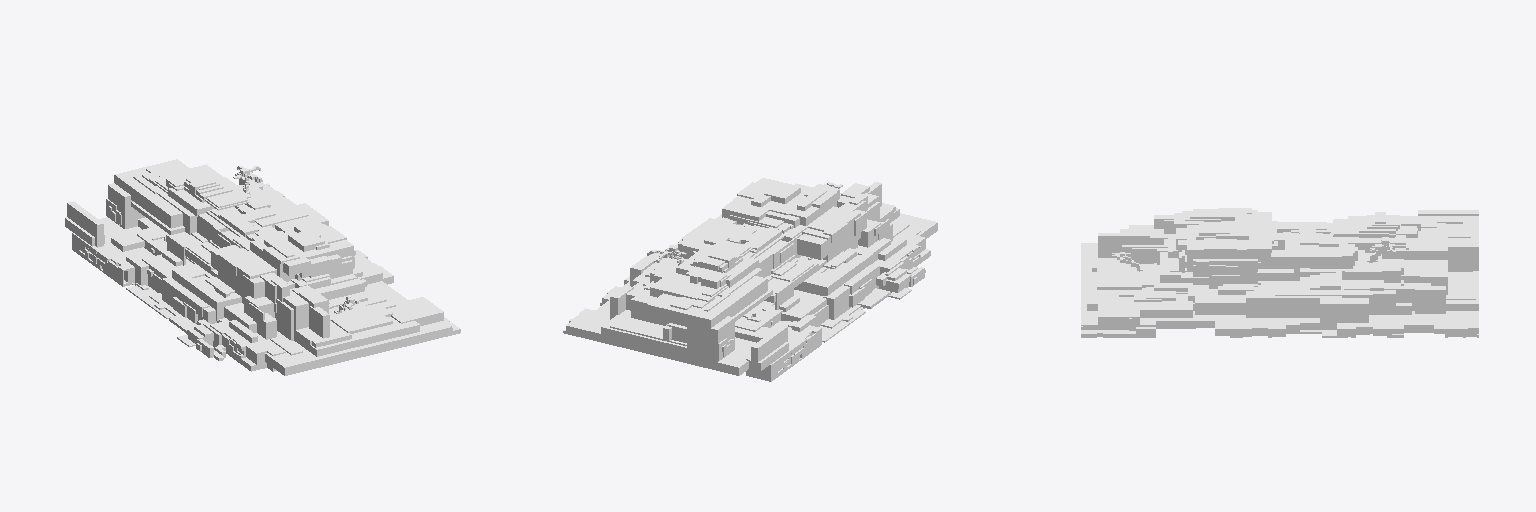
The model's file is boundies.obj.
3 views of the same model, side by side, from view 1: azimuth 30°, elevation 25°; view 2: azimuth 150°, elevation 25°; view 3: azimuth 270°, elevation 25° (orthographic).
Parts seen in each view (by area): view 1: object 1; view 2: object 1; view 3: object 1.
Part boxes in pixels (x1,y1,x2,y2): object 1: (65,159,460,375); object 1: (563,178,937,381); object 1: (1081,208,1478,337).
Size of the model in its own units: 15.7 by 5.3 by 25.6.